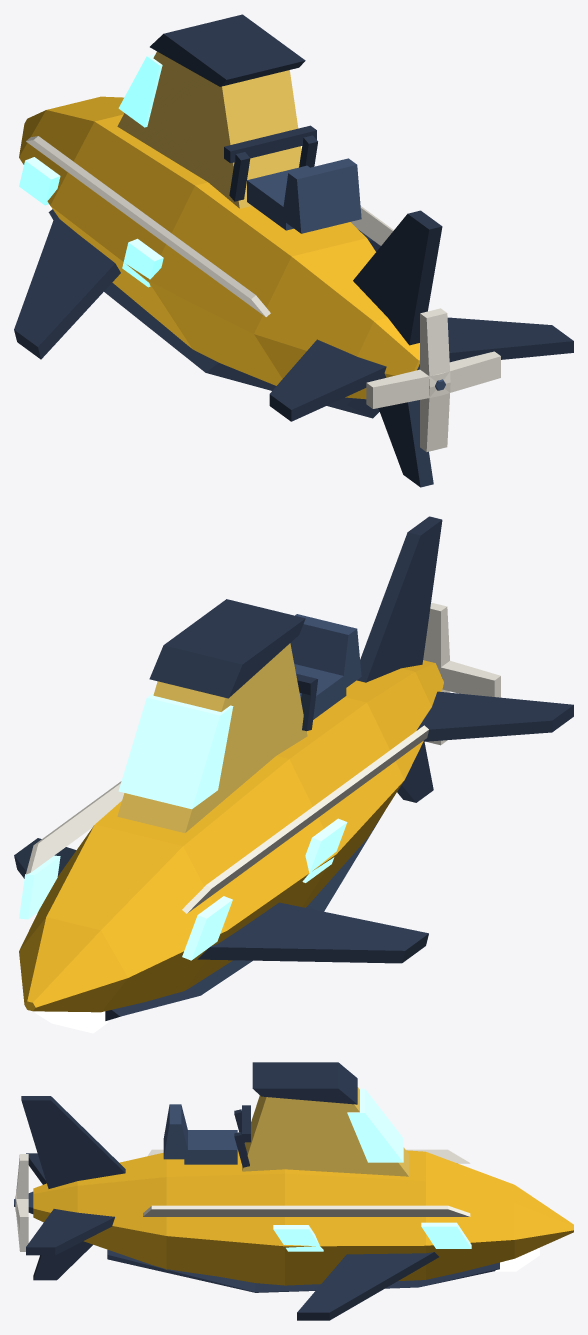
3 renders of one model, top to bottom at view 1: azimuth 30°, elevation 25°; view 2: azimuth 150°, elevation 25°; view 3: azimuth 270°, elevation 25°, orthographic. The views are drawn at different scales.
Parts seen in each view (by area): view 1: Hull, Tower, Fins, Wings, Prop, Seat, Bar, Ports, Window; view 2: Hull, Tower, Fins, Wings, Window, Seat, Ports, Prop, Light, Bar; view 3: Hull, Tower, Fins, Wings, Seat, Window, Ports, Prop, Bar, Light.
Boxes of the visible parts, left/top/right/bottom form: Hull: left=19, top=96, right=419, bottom=418; Tower: left=117, top=14, right=305, bottom=208; Fins: left=269, top=210, right=573, bottom=487; Wings: left=14, top=214, right=380, bottom=359; Prop: left=366, top=308, right=500, bottom=451; Seat: left=247, top=158, right=361, bottom=233; Bar: left=224, top=125, right=317, bottom=201; Ports: left=19, top=157, right=163, bottom=287; Window: left=118, top=54, right=162, bottom=127; Hull: left=19, top=660, right=443, bottom=1020; Tower: left=117, top=599, right=307, bottom=832; Fins: left=357, top=516, right=573, bottom=802; Wings: left=14, top=838, right=428, bottom=963; Window: left=118, top=692, right=233, bottom=809; Seat: left=290, top=614, right=361, bottom=719; Ports: left=19, top=818, right=347, bottom=960; Prop: left=423, top=602, right=500, bottom=745; Light: left=34, top=1011, right=108, bottom=1033; Bar: left=296, top=673, right=317, bottom=731; Hull: left=33, top=1149, right=573, bottom=1292; Tower: left=242, top=1062, right=408, bottom=1176; Fins: left=21, top=1096, right=125, bottom=1280; Wings: left=297, top=1252, right=438, bottom=1320; Seat: left=163, top=1104, right=237, bottom=1164; Window: left=347, top=1088, right=403, bottom=1162; Ports: left=273, top=1222, right=471, bottom=1251; Prop: left=14, top=1154, right=33, bottom=1251; Bar: left=234, top=1105, right=250, bottom=1167; Light: left=495, top=1247, right=539, bottom=1271.
Size of the model in its own units: 20.76 by 16.2 by 37.8.
